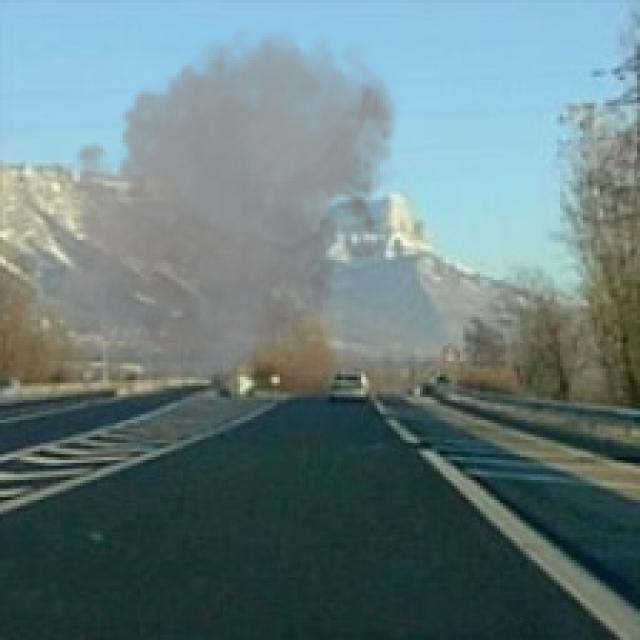smoke: (51, 20, 403, 397)
